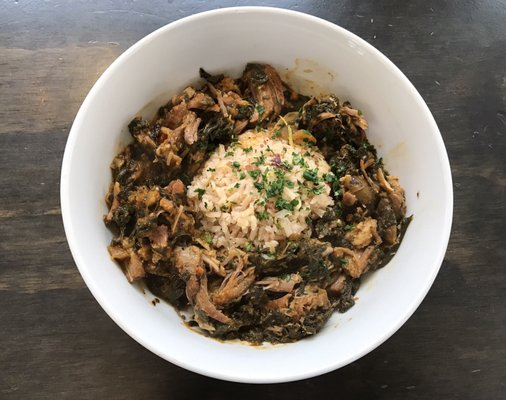sushi: (60, 6, 459, 386)
